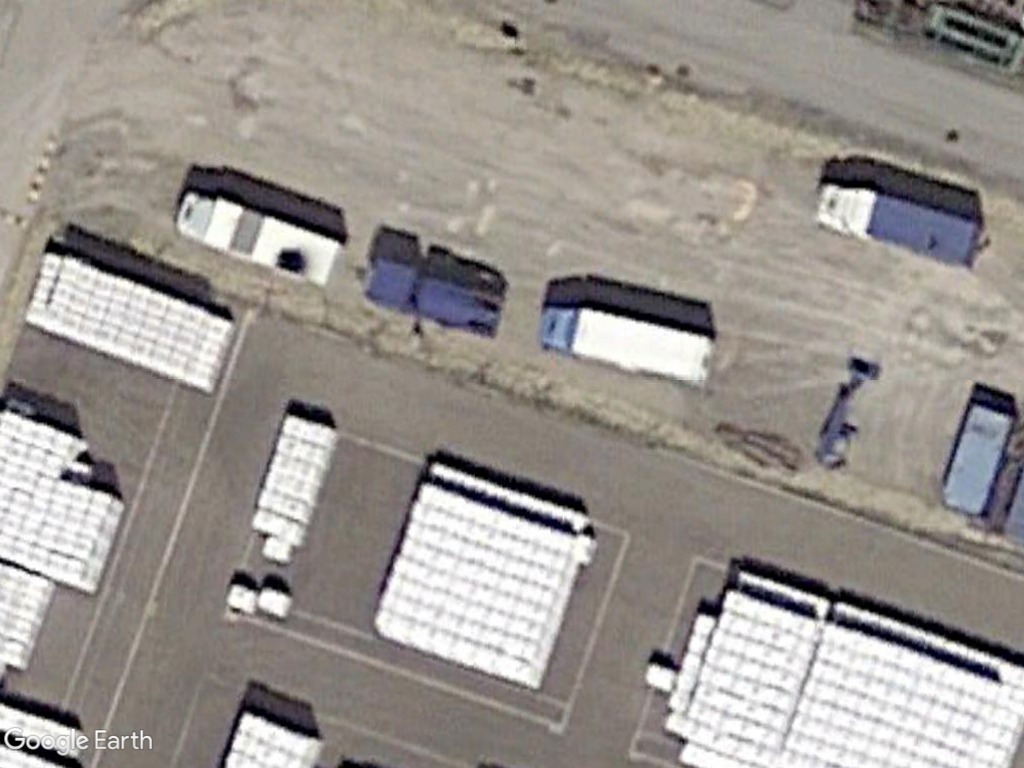truck: (171, 187, 345, 285), (539, 300, 718, 391), (814, 180, 989, 272)
